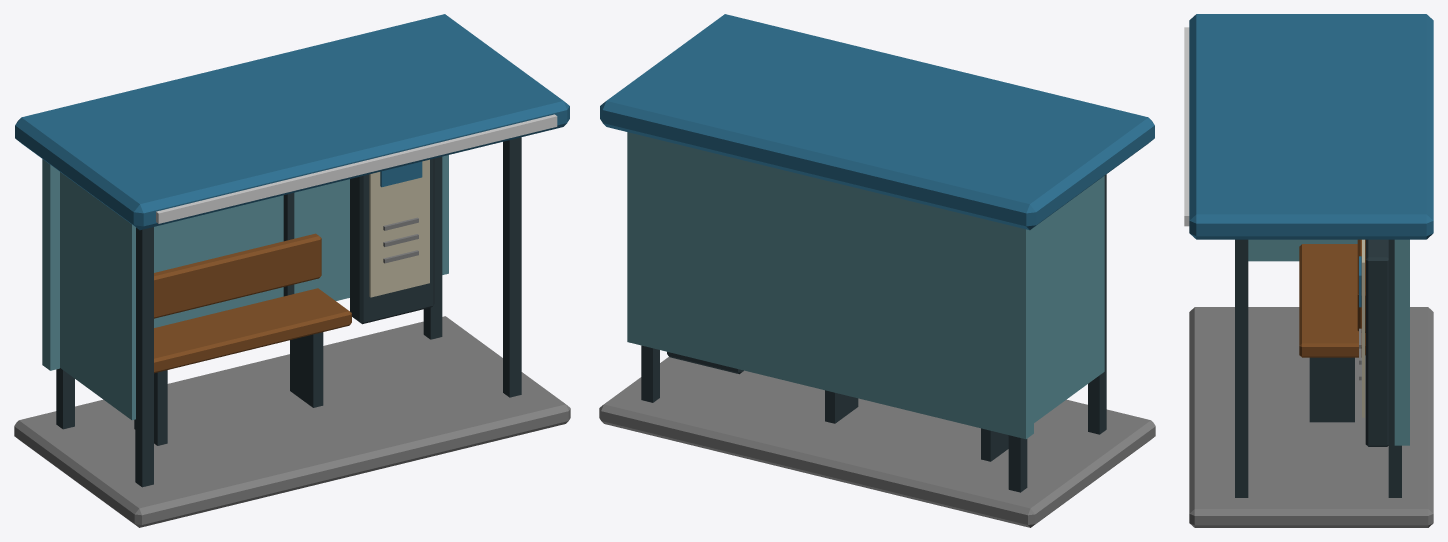
Rendered from bus-shelter.glb.
3 renders of one model, left to right at view 1: azimuth 30°, elevation 25°; view 2: azimuth 150°, elevation 25°; view 3: azimuth 270°, elevation 25°, orthographic. The views are drawn at different scales.
Parts seen in each view (by area): view 1: bus-shelter; view 2: bus-shelter; view 3: bus-shelter.
Part boxes in pixels (bbox=[...]): bus-shelter: bbox=[14, 14, 570, 527]; bus-shelter: bbox=[599, 14, 1155, 527]; bus-shelter: bbox=[1184, 14, 1433, 527].
Bounding box in the file's own units: 1.4 × 0.99 × 0.7145.
